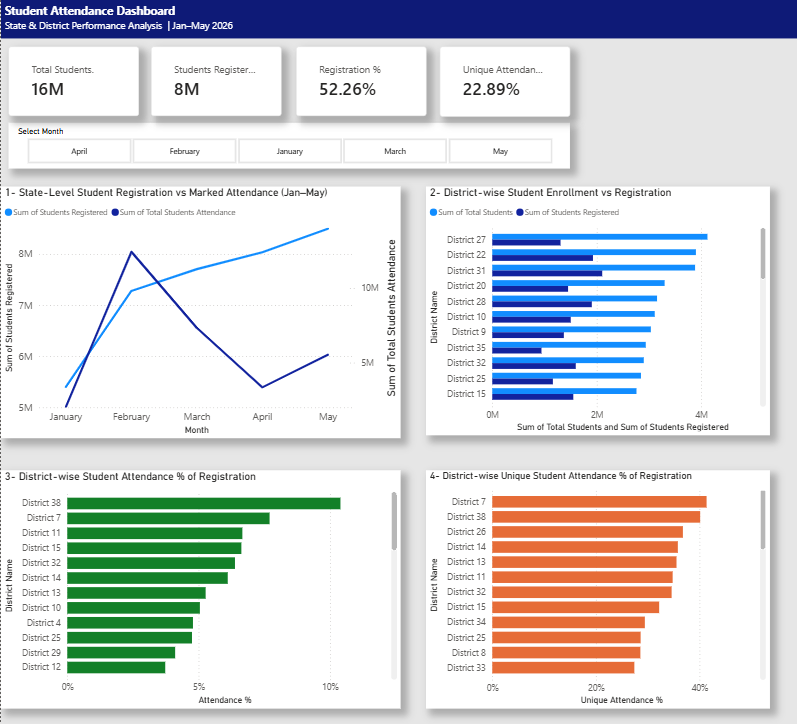

The page's visual inventory and layout, read from the dashboard file:
{"tool":"powerbi","page":{"name":"Page 1","canvas":[1100,1000],"ordinal":0},"visuals":[{"type":"lineChart","title":"1- State-Level Student Registration vs Marked Attendance (Jan–May)","fields":{"Category":["Master Data All Months.Month"],"Y":["Sum(Master Data All Months.Students Registered)"],"Y2":["Sum(Master Data All Months.Total Students Attendance)"]},"box":[0,258,551,347],"z":0},{"type":"slicer","fields":{"Values":["Master Data All Months.Month"]},"box":[10,170,774,63],"z":1000},{"type":"clusteredBarChart","title":"3- District-wise Student Attendance % of Registration","fields":{"Category":["Master Data All Months.District Name"],"Y":["Master Data All Months.Attendance %"]},"box":[0,650,551.4,328.6],"z":2000},{"type":"clusteredBarChart","title":"4- District-wise Unique Student Attendance % of Registration","fields":{"Category":["Master Data All Months.District Name"],"Y":["Master Data All Months.Unique Attendance %"]},"box":[587,650,474,329],"z":3000},{"type":"clusteredBarChart","title":"2- District-wise Student Enrollment vs Registration","fields":{"Category":["Master Data All Months.District Name"],"Y":["Sum(Master Data All Months.Total Students)","Sum(Master Data All Months.Students Registered)"]},"box":[587,258,474,343],"z":4000},{"type":"cardVisual","fields":{"Data":["Master Data All Months.Total Students KPI"]},"box":[10,65,180,96],"z":5000},{"type":"textbox","box":[0,0,1100,54.2],"z":6000},{"type":"cardVisual","fields":{"Data":["Master Data All Months.Students Registered KPI"]},"box":[207,65,180,96],"z":7000},{"type":"cardVisual","fields":{"Data":["Master Data All Months.Registration % KPI"]},"box":[407,65,180,96],"z":8000},{"type":"cardVisual","fields":{"Data":["Master Data All Months.Unique Attendance % KPI"]},"box":[604.7,64.7,180,96.5],"z":9000}]}

Visuals, with their boxes in screenshot pixels (x1, y1, x2, y2), scaled from the page's 1100x1000 canvas onto the 797x724 screenshot:
"1- State-Level Student Registration vs Marked Attendance (Jan–May)" lineChart: locate(0, 187, 399, 438)
slicer - Master Data All Months.Month: locate(7, 123, 568, 169)
"3- District-wise Student Attendance % of Registration" clusteredBarChart: locate(0, 471, 400, 709)
"4- District-wise Unique Student Attendance % of Registration" clusteredBarChart: locate(425, 471, 769, 709)
"2- District-wise Student Enrollment vs Registration" clusteredBarChart: locate(425, 187, 769, 435)
cardVisual - Master Data All Months.Total Students KPI: locate(7, 47, 138, 117)
textbox: locate(0, 0, 796, 39)
cardVisual - Master Data All Months.Students Registered KPI: locate(150, 47, 280, 117)
cardVisual - Master Data All Months.Registration % KPI: locate(295, 47, 425, 117)
cardVisual - Master Data All Months.Unique Attendance % KPI: locate(438, 47, 569, 117)
